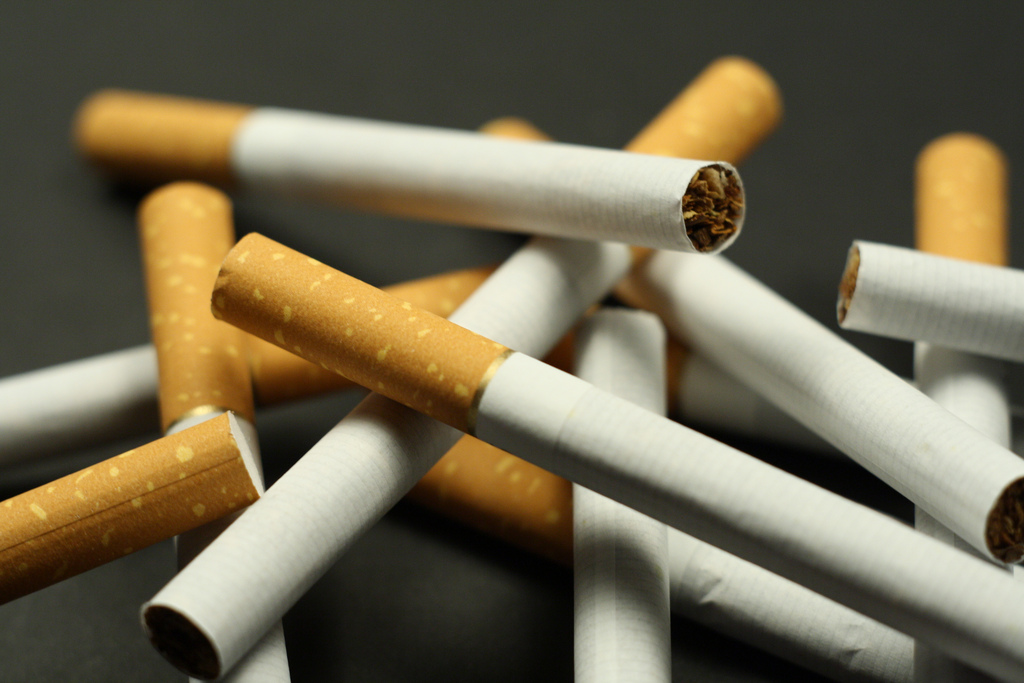cigarette: (203, 221, 1024, 673), (70, 76, 750, 271)
